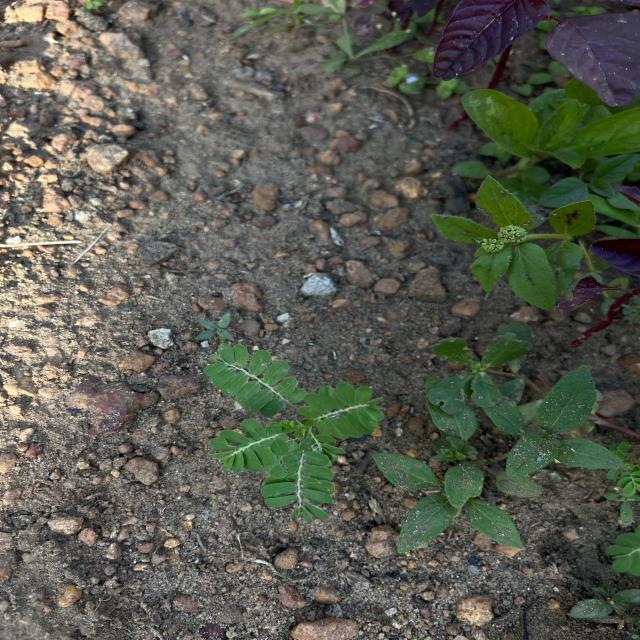Phyllanthus niruri: (199, 339, 307, 416), (259, 447, 336, 525), (296, 381, 386, 442), (206, 414, 290, 476)
